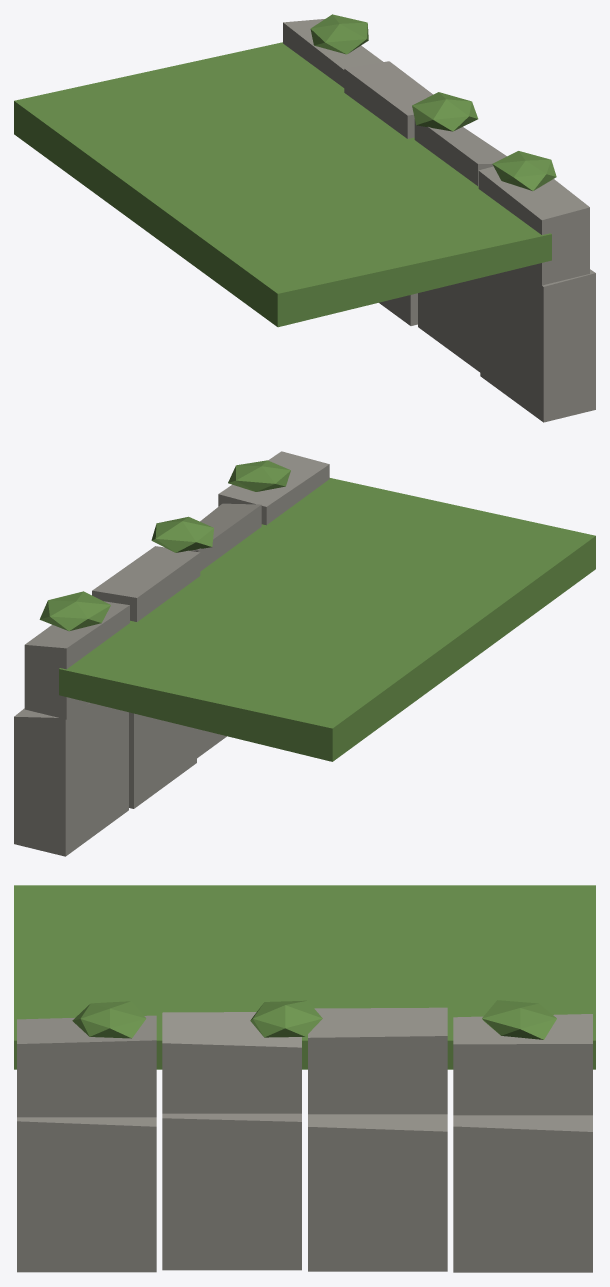
File: canal_edge_b.fbx
3 views of the same model, one above another, from view 1: azimuth 30°, elevation 25°; view 2: azimuth 150°, elevation 25°; view 3: azimuth 270°, elevation 25° (orthographic). The views are drawn at different scales.
Visible parts, largest first — view 1: B_Edge_Moss, B_Edge_Stone; view 2: B_Edge_Moss, B_Edge_Stone; view 3: B_Edge_Stone, B_Edge_Moss.
Part boxes in pixels (bbox=[...]): B_Edge_Moss: bbox=[14, 14, 556, 327]; B_Edge_Stone: bbox=[283, 19, 595, 422]; B_Edge_Moss: bbox=[39, 460, 595, 761]; B_Edge_Stone: bbox=[14, 451, 329, 856]; B_Edge_Stone: bbox=[17, 1007, 592, 1272]; B_Edge_Moss: bbox=[14, 885, 595, 1069].
Bounding box in the file's own units: 5.61 × 3.82 × 8.
